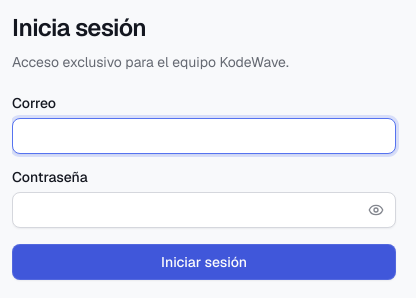
Scenario: LoginForm: mostrar contraseña › el ojito alterna entre oculta y visible
In the password field labelled "Contraseña": (204, 210) [12,192,396,228], type "secreto"
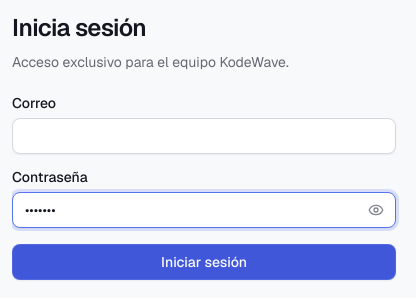
Click the button named "Mostrar contraseña": (376, 210) [362,196,390,224]
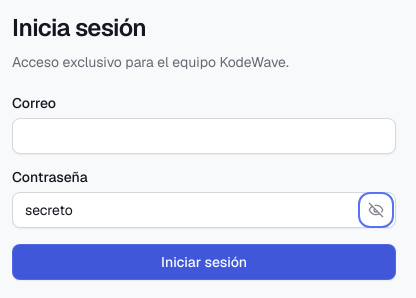
Check: the field labelled "Contraseña" shows its text, box [12,192,396,228]
Click the button named "Ocultar contraseña": (376, 210) [362,196,390,224]
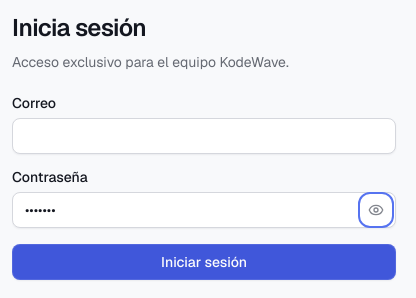
Check: the password field labelled "Contraseña" hides its text, box [12,192,396,228]
